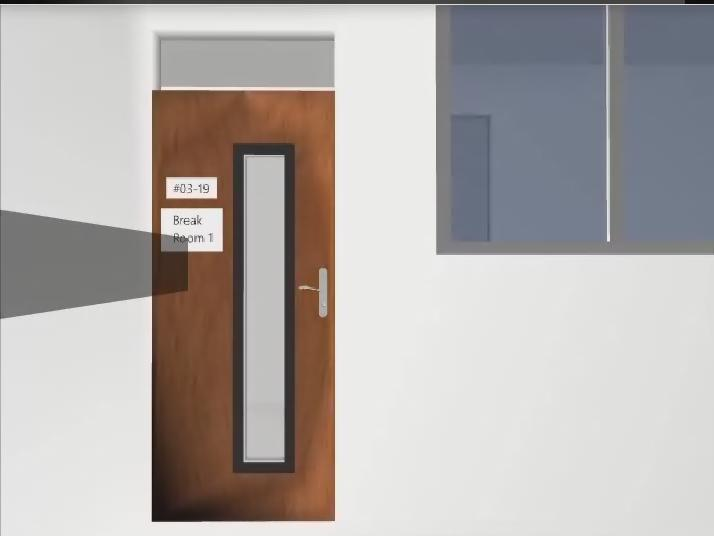door: (153, 91, 335, 521)
